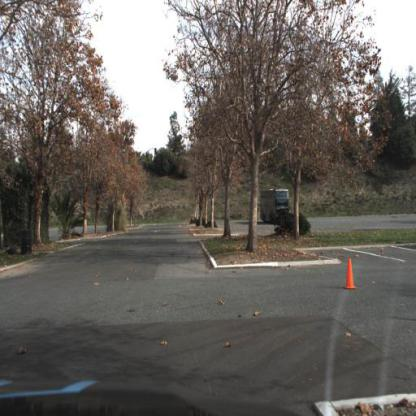truck: (261, 189, 291, 225)
